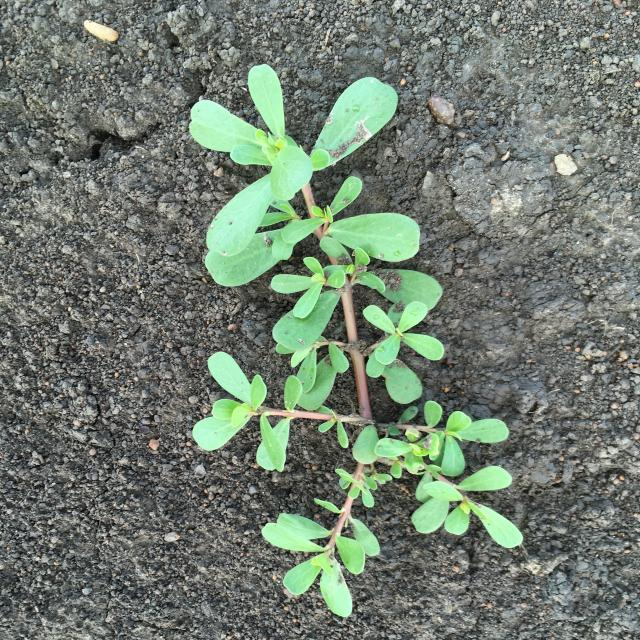Purslane: (189, 64, 523, 617)
